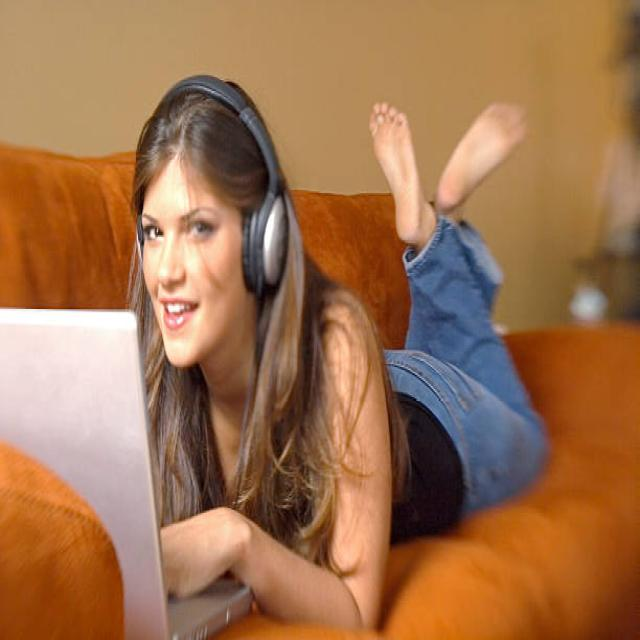Headphone: (132, 76, 290, 297)
